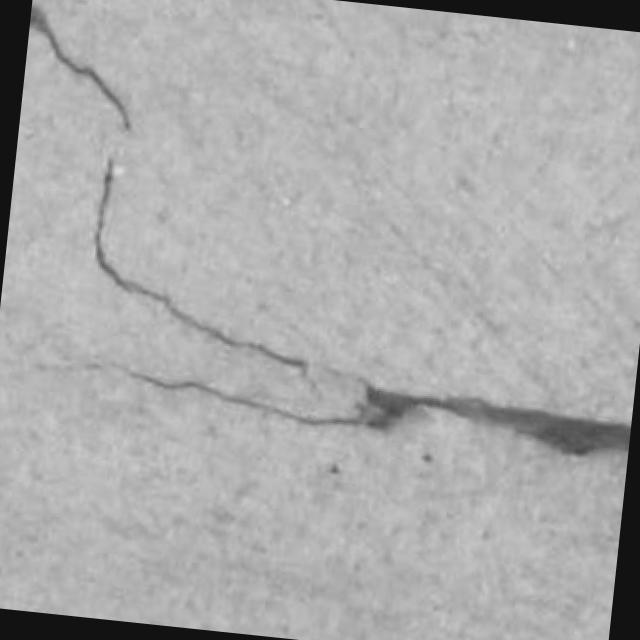crack: (84, 363, 630, 455), (114, 365, 630, 455), (94, 159, 308, 373), (367, 387, 630, 455), (29, 4, 130, 130)
